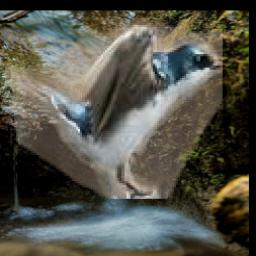Swallow: (6, 18, 224, 199)
